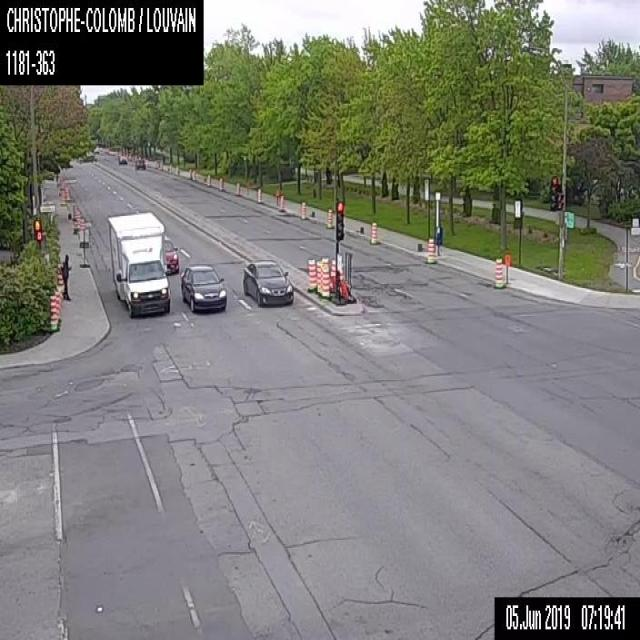construction: (337, 254, 348, 304), (318, 256, 330, 298), (78, 228, 90, 266), (305, 257, 316, 291), (49, 294, 59, 330), (493, 256, 502, 288), (426, 238, 436, 262), (55, 263, 64, 288), (54, 290, 60, 326), (329, 257, 335, 291), (368, 220, 376, 244), (325, 207, 333, 228), (278, 193, 286, 212), (298, 200, 306, 219), (254, 185, 262, 204), (58, 288, 62, 322), (316, 260, 320, 294), (75, 210, 81, 229), (205, 173, 211, 187), (60, 189, 65, 204), (72, 203, 76, 221), (64, 185, 69, 199), (80, 216, 85, 228), (218, 179, 222, 192), (190, 171, 194, 181), (174, 165, 177, 178), (236, 182, 239, 195), (156, 162, 159, 170)
pedestrian: (62, 252, 71, 301)
vehicle: (107, 210, 170, 318), (242, 259, 293, 307), (180, 263, 226, 312), (164, 236, 178, 274), (134, 157, 147, 172), (118, 154, 126, 166)
